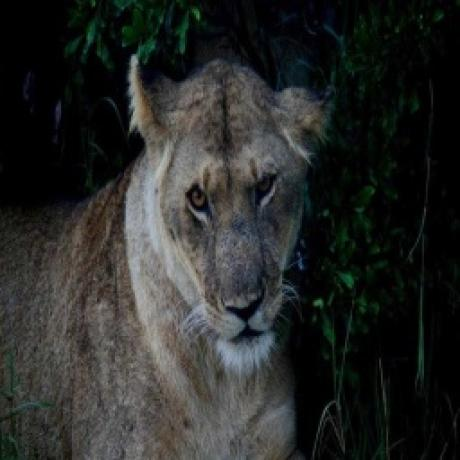Lion: (0, 43, 334, 458)
